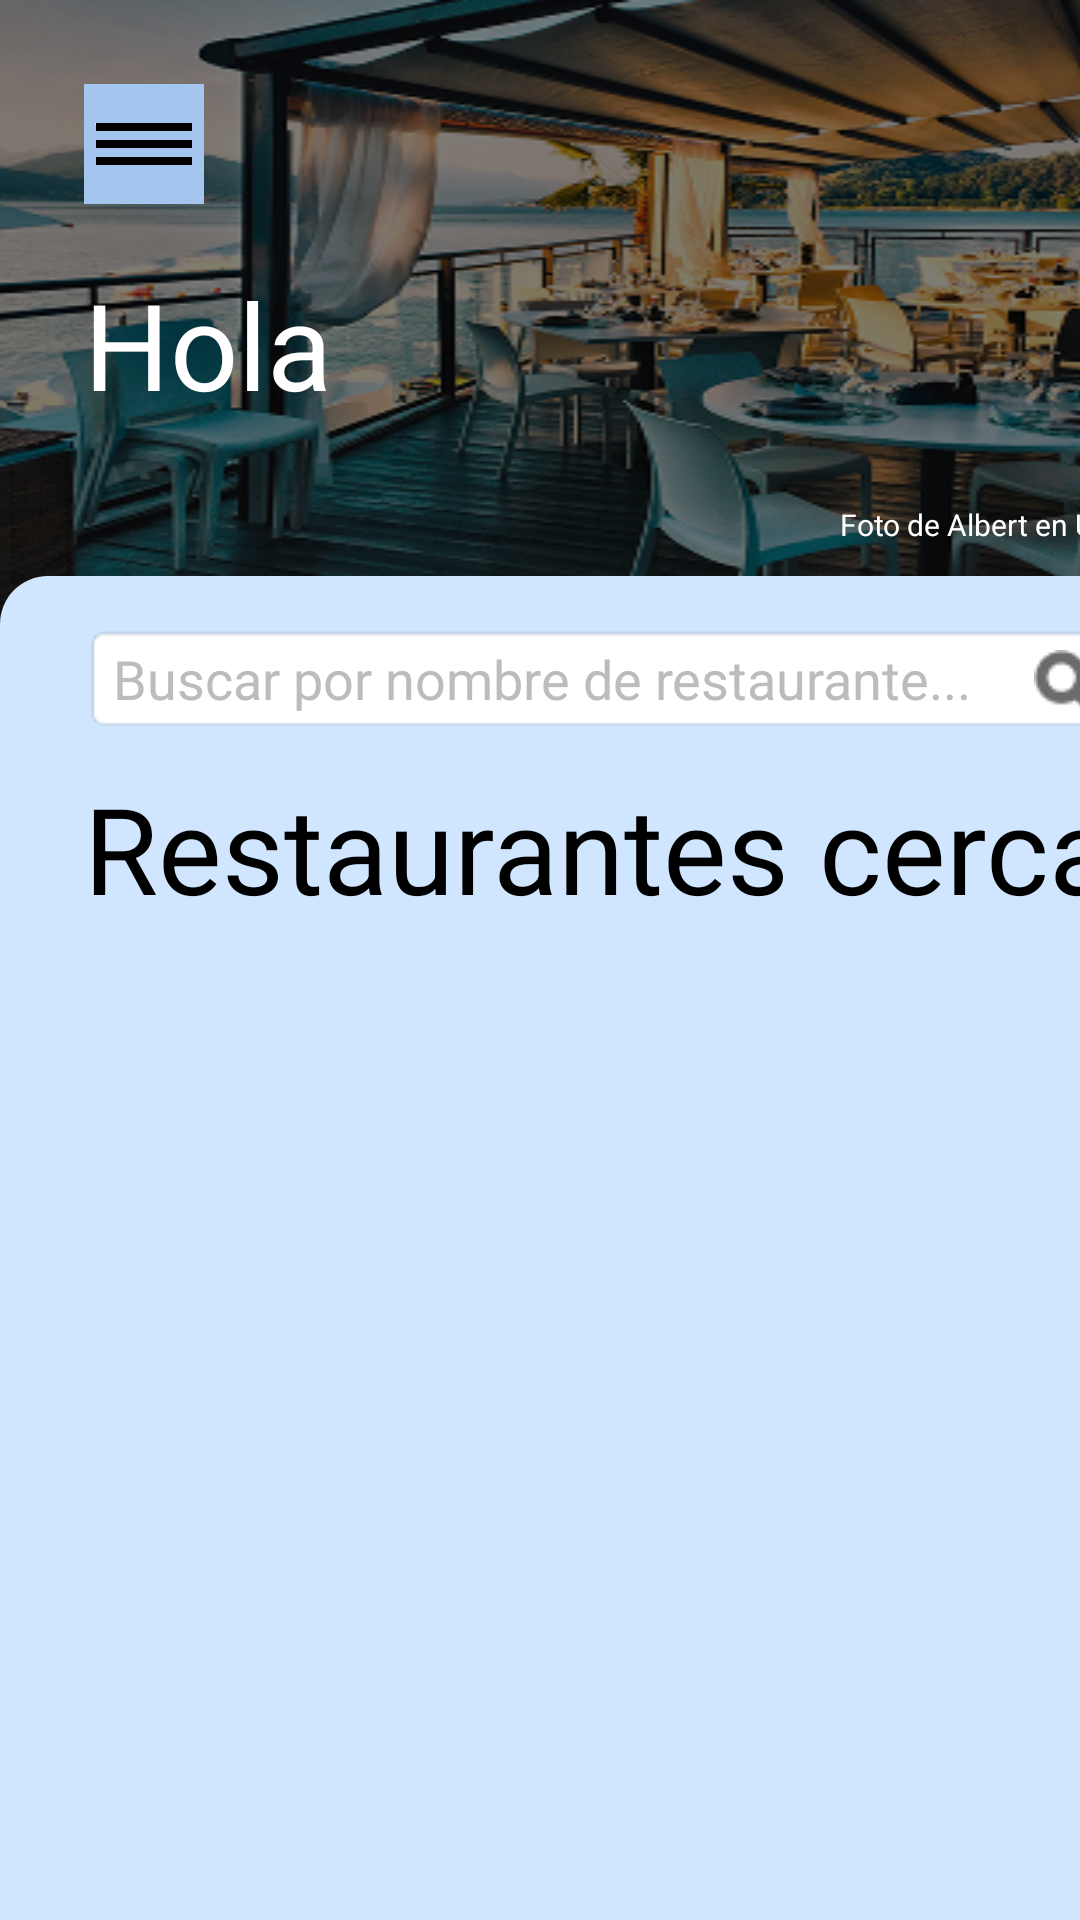

Named icons in this screenshot (1080*1920) and their centers, [x,y]:
menu: [144,144]
